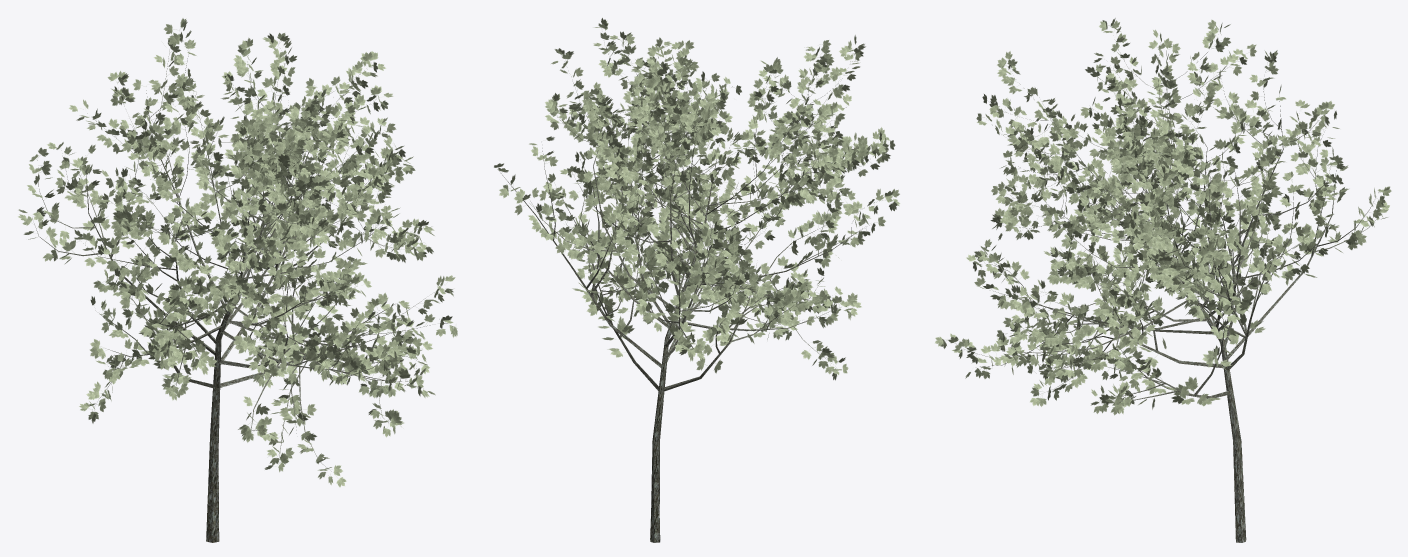
3 views of the same model, side by side, from view 1: azimuth 30°, elevation 25°; view 2: azimuth 150°, elevation 25°; view 3: azimuth 270°, elevation 25° (orthographic). The views are drawn at different scales.
Visible parts, largest first — view 1: Save OBJ (×2); view 2: Save OBJ (×2); view 3: Save OBJ (×2).
Part boxes in pixels (bbox=[...]): Save OBJ (×2): bbox=[18, 18, 457, 542]; Save OBJ (×2): bbox=[494, 18, 900, 542]; Save OBJ (×2): bbox=[935, 18, 1391, 542].
Bounding box in the file's own units: 12.85 × 18.18 × 15.62.
2 materials, 2 textured.
